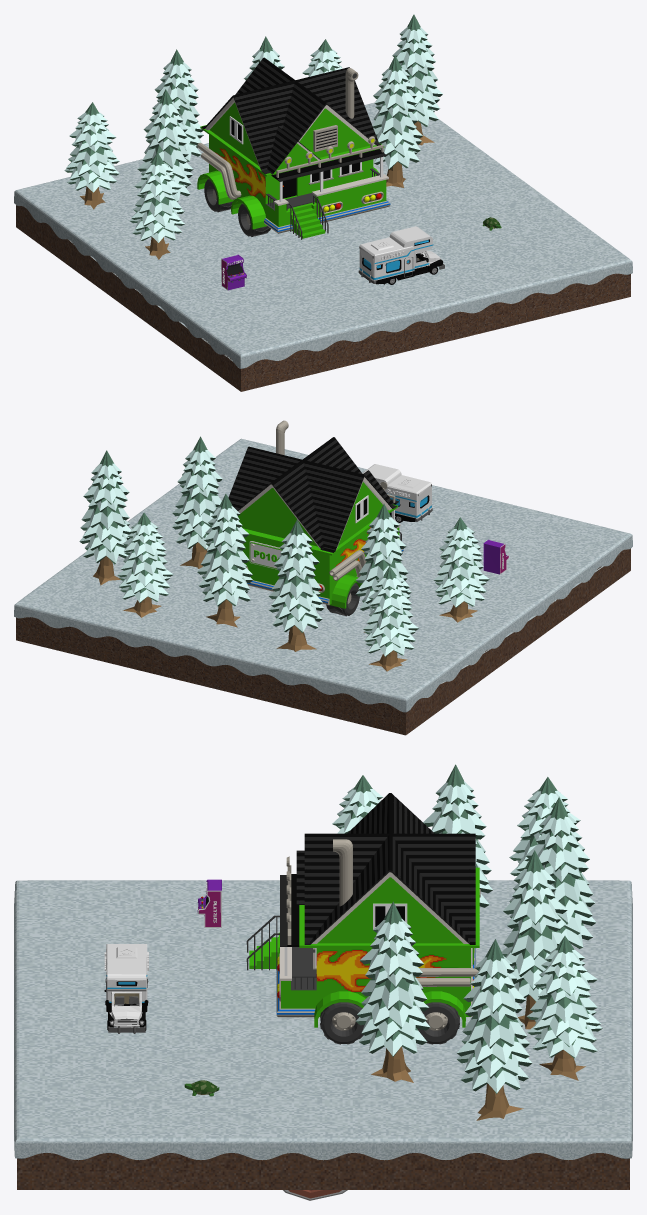
The picture shows the model from 3 angles, top to bottom: view 1: azimuth 30°, elevation 25°; view 2: azimuth 150°, elevation 25°; view 3: azimuth 270°, elevation 25°; orthographic projection. The views are drawn at different scales.
Parts seen in each view (by area): view 1: Cube.003, Cube.1474, VEHICLES_CAMPER, OBJRANDOM_ARCADE; view 2: Cube.003, Cube.1474, VEHICLES_CAMPER, OBJRANDOM_ARCADE; view 3: Cube.003, Cube.1474, VEHICLES_CAMPER, OBJRANDOM_ARCADE.
Boxes of the visible parts, x1,y1,x2,y2 form: Cube.003: (14,14,632,391); Cube.1474: (197,57,390,239); VEHICLES_CAMPER: (358,226,444,284); OBJRANDOM_ARCADE: (221,254,246,290); Cube.003: (14,436,632,735); Cube.1474: (228,420,403,616); VEHICLES_CAMPER: (362,464,432,522); OBJRANDOM_ARCADE: (483,539,508,574); Cube.003: (14,764,632,1189); Cube.1474: (246,793,480,1044); VEHICLES_CAMPER: (104,944,148,1033); OBJRANDOM_ARCADE: (197,879,221,927).
Bounding box in the file's own units: 4040 × 2553 × 4040.
Materials: 48 (4 with a texture image).
